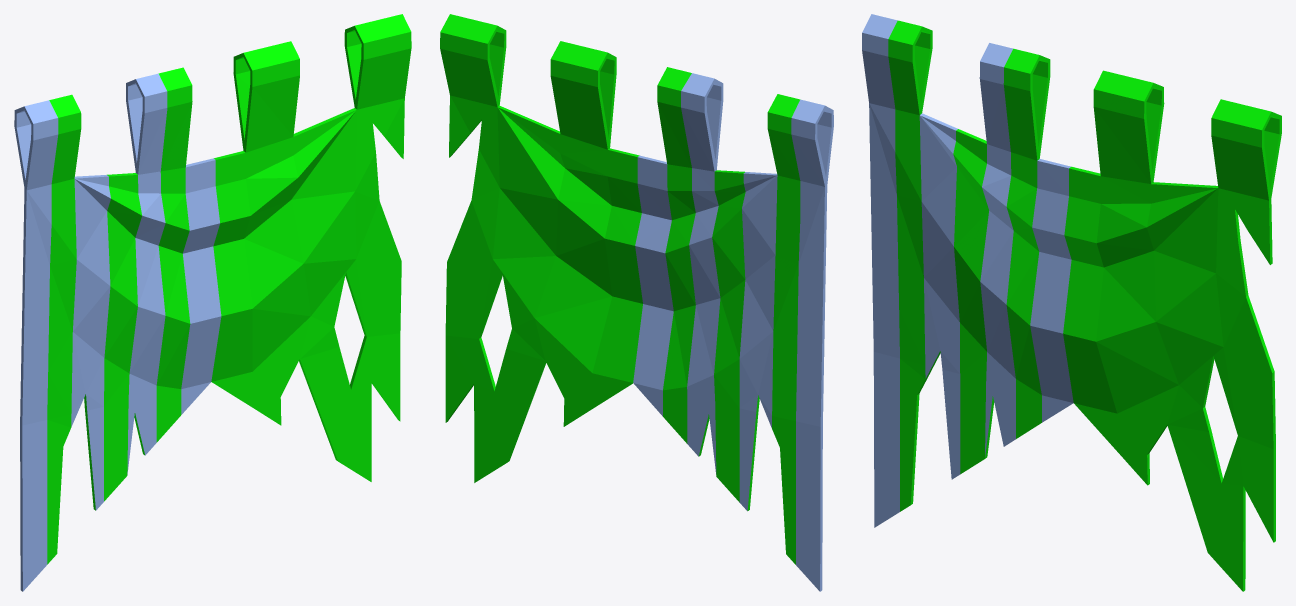
The model's file is SM_Flag_Banner_Short_B_Broken_Fantasy.fbx.
3 renders of one model, left to right at view 1: azimuth 30°, elevation 25°; view 2: azimuth 150°, elevation 25°; view 3: azimuth 330°, elevation 25°, orthographic. The views are drawn at different scales.
Parts seen in each view (by area): view 1: flag-banner-short-b-broken-fantasy; view 2: flag-banner-short-b-broken-fantasy; view 3: flag-banner-short-b-broken-fantasy.
Part boxes in pixels (bbox=[...]): flag-banner-short-b-broken-fantasy: bbox=[14, 14, 411, 591]; flag-banner-short-b-broken-fantasy: bbox=[440, 14, 833, 591]; flag-banner-short-b-broken-fantasy: bbox=[862, 14, 1281, 591].
Size of the model in its own units: 0.9567 by 1.18 by 0.0831.
